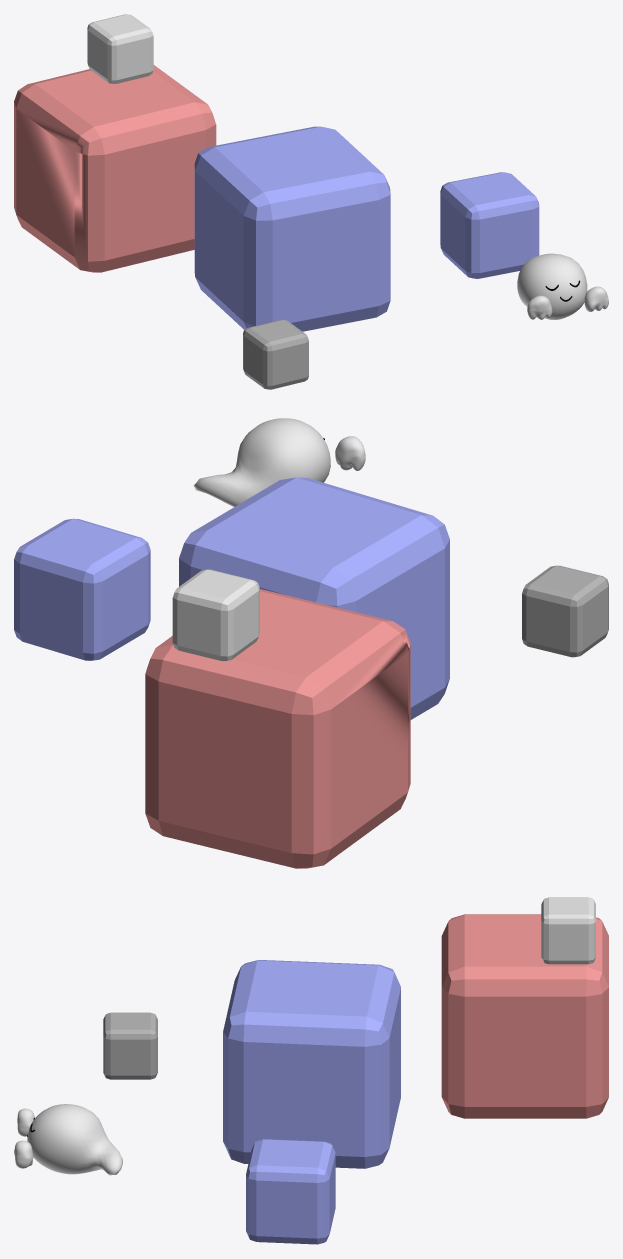
Rendered from obake.glb.
3 renders of one model, top to bottom at view 1: azimuth 30°, elevation 25°; view 2: azimuth 150°, elevation 25°; view 3: azimuth 270°, elevation 25°, orthographic. The views are drawn at different scales.
Parts seen in each view (by area): view 1: Cube.001, Cube.002, Cube, Cube.003, Sphere, Sphere.003, Sphere.001; view 2: Cube.002, Cube.001, Cube, Cube.003, Sphere, Sphere.001; view 3: Cube.001, Cube.002, Sphere, Cube, Cube.003.
Boxes of the visible parts, x1,y1,x2,y2 form: Cube.001: [194, 126, 539, 331]; Cube.002: [14, 65, 216, 272]; Cube: [87, 14, 153, 83]; Cube.003: [243, 320, 308, 389]; Sphere: [517, 253, 587, 319]; Sphere.003: [584, 286, 608, 311]; Sphere.001: [527, 295, 552, 319]; Cube.002: [145, 589, 410, 868]; Cube.001: [14, 477, 449, 719]; Cube: [172, 569, 259, 661]; Cube.003: [522, 565, 608, 657]; Sphere: [193, 418, 330, 506]; Sphere.001: [335, 436, 365, 470]; Cube.001: [223, 960, 400, 1244]; Cube.002: [441, 914, 608, 1118]; Sphere: [27, 1104, 122, 1175]; Cube: [541, 897, 595, 964]; Cube.003: [103, 1012, 157, 1079].
Size of what is drawn, in the model's own units: 10.5 by 5.48 by 14.11.
